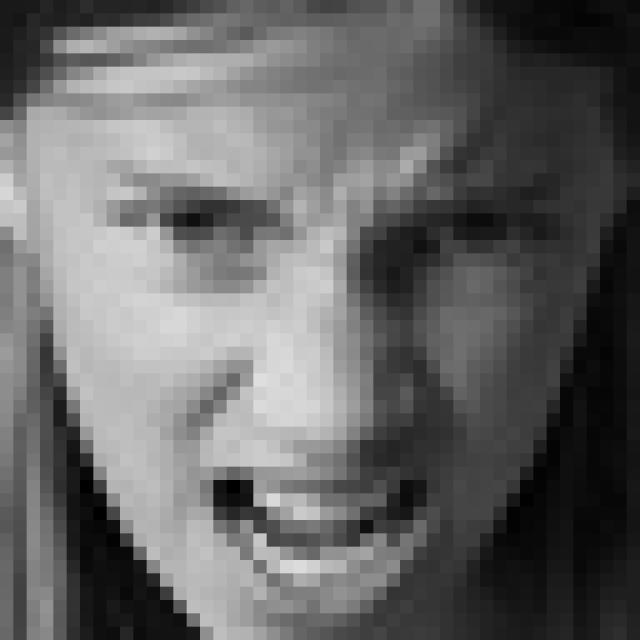angry: (102, 165, 563, 628)
